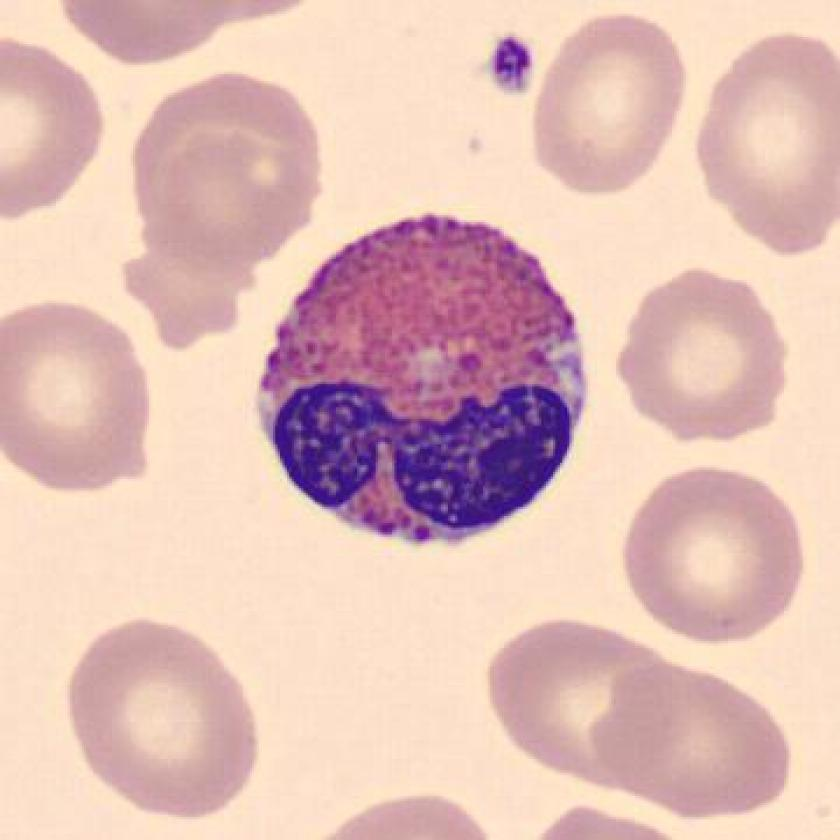eosinophil: (242, 196, 606, 566)
